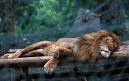lion: (20, 29, 120, 69)
